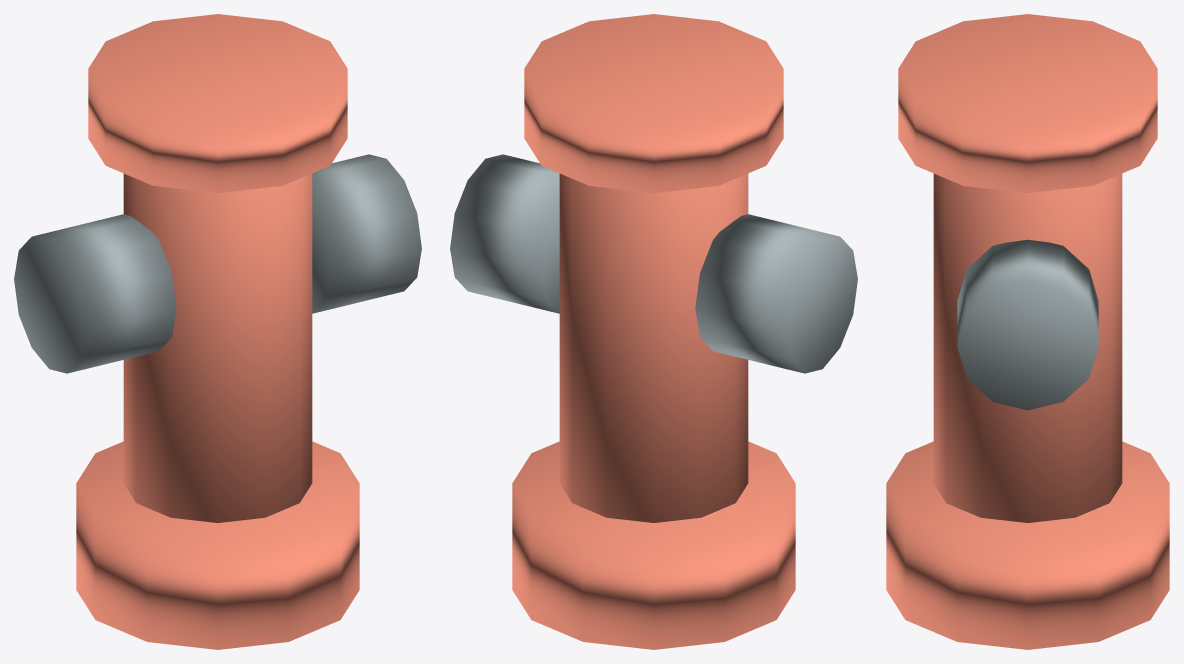
File: HL_Hydrant_Coral.fbx
3 views of the same model, side by side, from view 1: azimuth 30°, elevation 25°; view 2: azimuth 150°, elevation 25°; view 3: azimuth 270°, elevation 25° (orthographic).
Parts seen in each view (by area): view 1: Hydrant | barrel, Hydrant | foot, Hydrant | cap, Hydrant | hose coupling, Hydrant | hose coupling.001; view 2: Hydrant | barrel, Hydrant | foot, Hydrant | cap, Hydrant | hose coupling, Hydrant | hose coupling.001; view 3: Hydrant | barrel, Hydrant | foot, Hydrant | cap, Hydrant | hose coupling.001.
Boxes of the visible parts, x1,y1,x2,y2 form: Hydrant | barrel: (123, 173, 312, 522); Hydrant | foot: (76, 441, 359, 649); Hydrant | cap: (88, 14, 347, 192); Hydrant | hose coupling: (14, 214, 176, 373); Hydrant | hose coupling.001: (312, 154, 421, 313); Hydrant | barrel: (559, 173, 748, 522); Hydrant | foot: (512, 441, 795, 649); Hydrant | cap: (524, 14, 783, 192); Hydrant | hose coupling: (695, 214, 857, 373); Hydrant | hose coupling.001: (450, 154, 559, 313); Hydrant | barrel: (933, 173, 1122, 522); Hydrant | foot: (886, 441, 1169, 649); Hydrant | cap: (898, 14, 1157, 192); Hydrant | hose coupling.001: (957, 239, 1098, 410).
Size of the model in its own units: 66 by 97.5 by 48.
